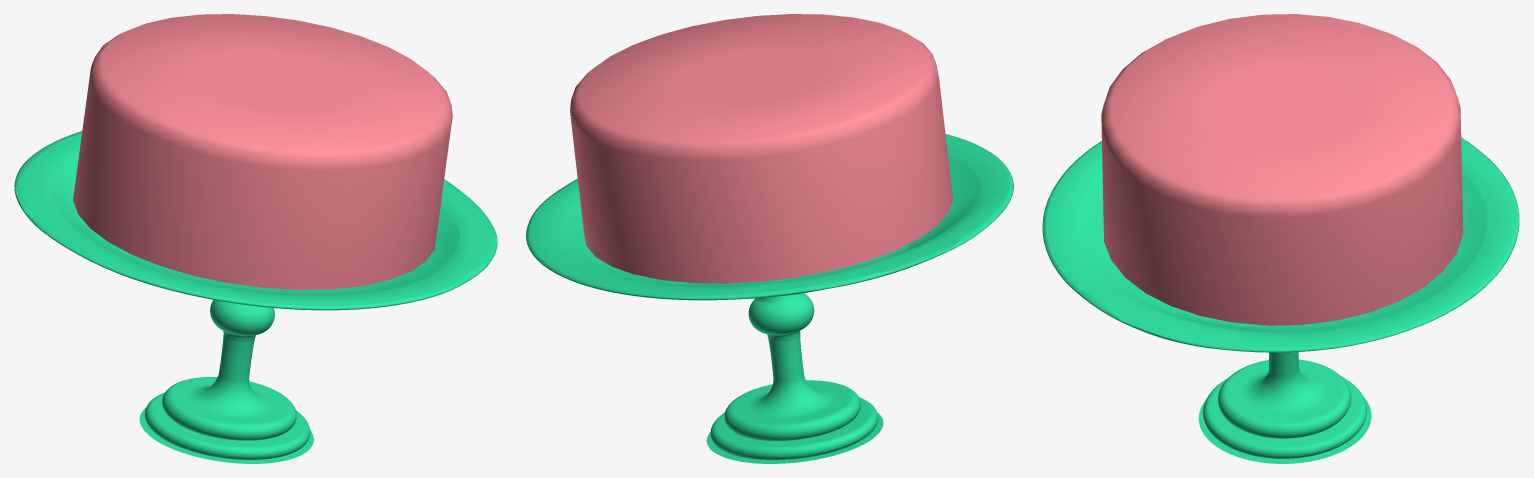
Rendered from cake.glb.
The picture shows the model from 3 angles, left to right: view 1: azimuth 30°, elevation 25°; view 2: azimuth 150°, elevation 25°; view 3: azimuth 270°, elevation 25°; orthographic projection. The views are drawn at different scales.
Parts seen in each view (by area): view 1: cake, stand; view 2: cake, stand; view 3: cake, stand.
Boxes of the visible parts, x1,y1,x2,y2 form: cake: [73, 14, 452, 289]; stand: [14, 131, 497, 463]; cake: [570, 14, 952, 283]; stand: [526, 134, 1013, 463]; cake: [1101, 14, 1463, 325]; stand: [1042, 137, 1519, 463].
Size of the model in its own units: 5.71 by 4.86 by 5.77.
